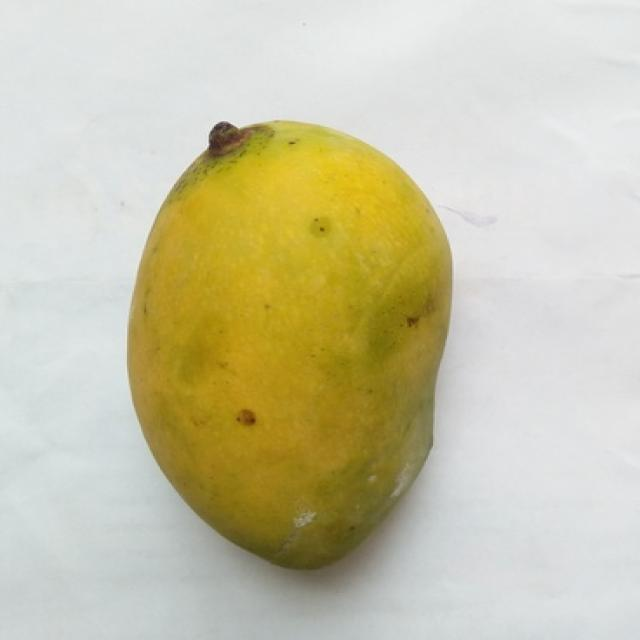Mango: (129, 121, 450, 567)
